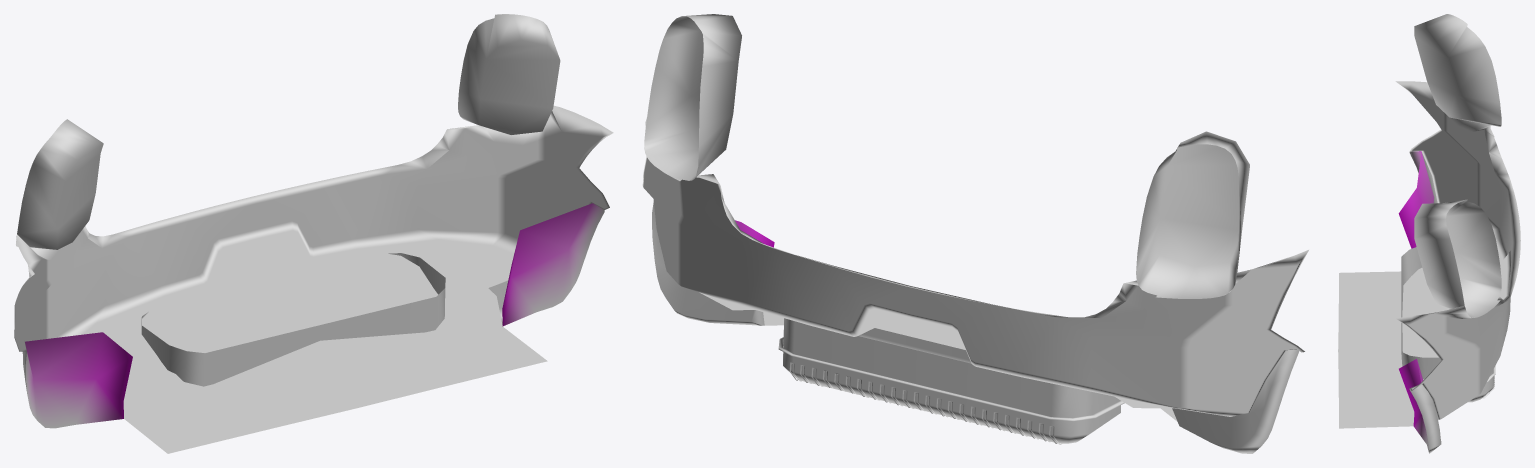
Rendered from Car_Mini_CountrymanJCW_2017_BumperChassisR_SetC.fbx.
The picture shows the model from 3 angles, left to right: view 1: azimuth 30°, elevation 25°; view 2: azimuth 150°, elevation 25°; view 3: azimuth 270°, elevation 25°; orthographic projection. The views are drawn at different scales.
Visible parts, largest first — view 1: BumperChassisR 6; view 2: BumperChassisR 6; view 3: BumperChassisR 6.
Part boxes in pixels (box(x1,y1,x2,y2)): BumperChassisR 6: box(14, 14, 613, 453); BumperChassisR 6: box(642, 14, 1308, 453); BumperChassisR 6: box(1338, 14, 1520, 453).
Bounding box in the file's own units: 1.74 × 0.8045 × 0.5537.
